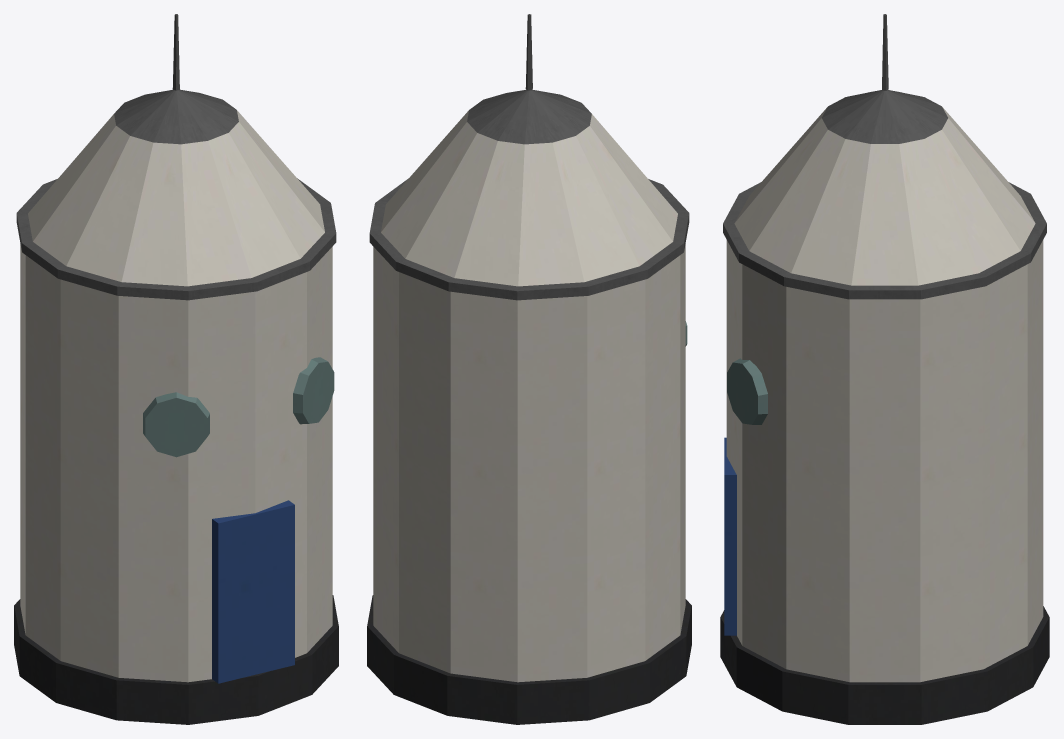
The model's file is capsule_house_01.glb.
3 renders of one model, left to right at view 1: azimuth 30°, elevation 25°; view 2: azimuth 150°, elevation 25°; view 3: azimuth 270°, elevation 25°, orthographic.
Visible parts, largest first — view 1: capsule_house_01; view 2: capsule_house_01; view 3: capsule_house_01.
Part boxes in pixels (x1,y1,x2,y2): capsule_house_01: (14,14,338,724); capsule_house_01: (367,14,691,724); capsule_house_01: (720,14,1049,724).
Bounding box in the file's own units: 2.53 × 5.6 × 2.6.
5 materials, 5 textured.
